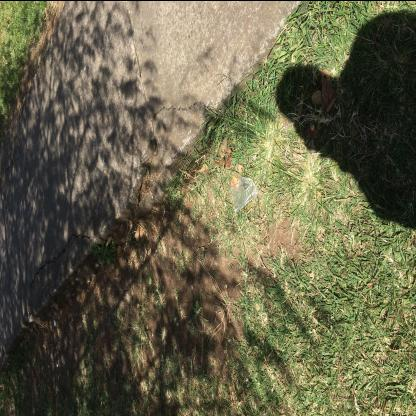plastik: (228, 174, 258, 212)
